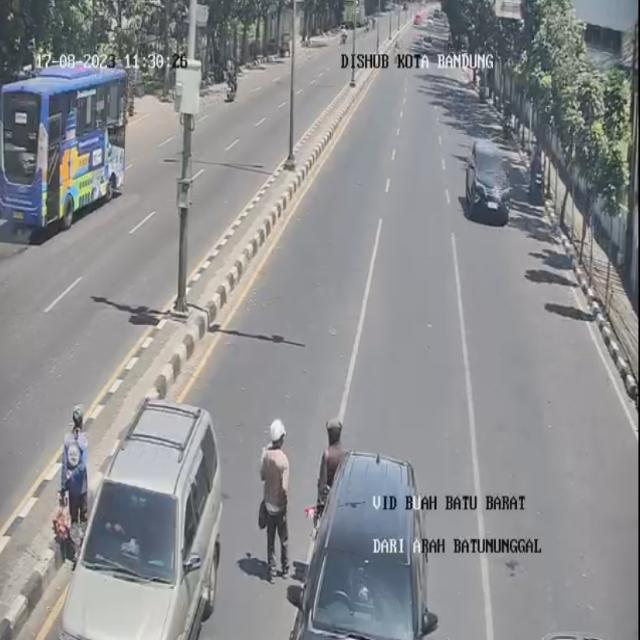cars: (61, 400, 222, 639), (287, 452, 443, 639), (465, 137, 512, 225)
